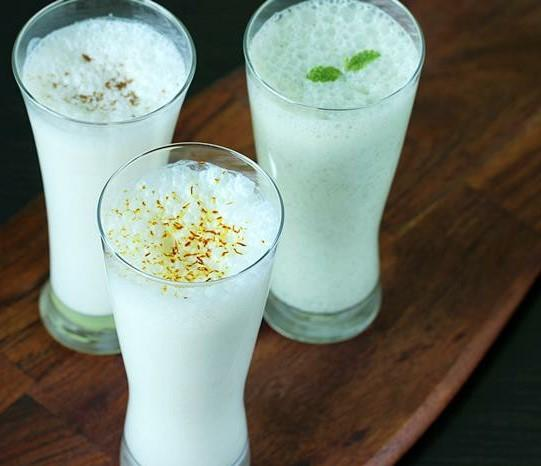Lassi: (246, 0, 419, 313), (101, 159, 277, 466), (21, 18, 189, 317)
